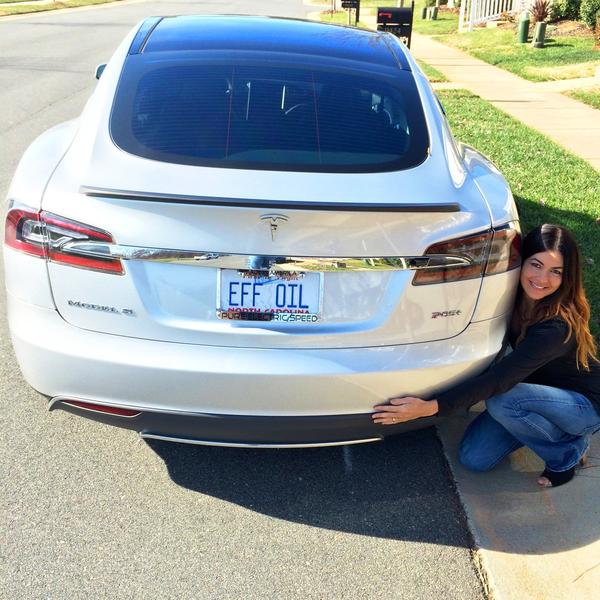license plate: (213, 263, 324, 328)
